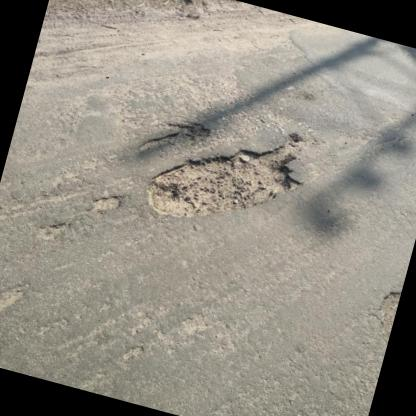pothole: (141, 96, 316, 250), (134, 106, 214, 170), (0, 266, 33, 337), (370, 284, 401, 340), (85, 186, 128, 219)
